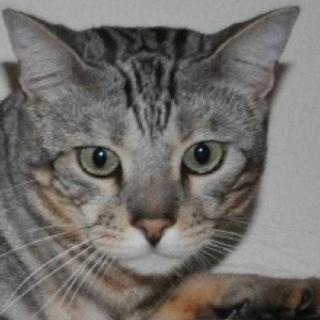cat: (0, 1, 307, 274)
nose: (125, 177, 180, 251)
